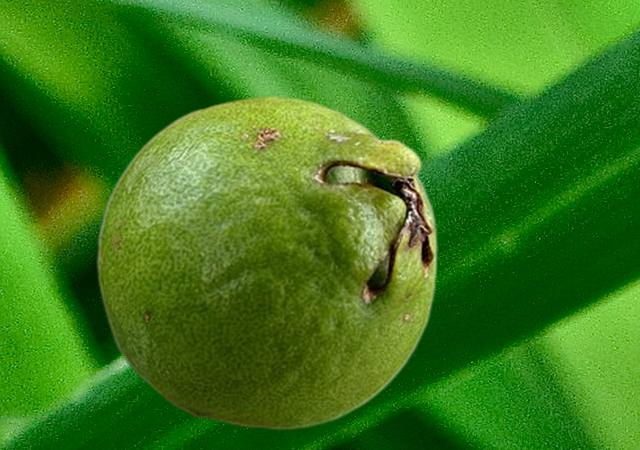guava: (96, 95, 437, 430)
